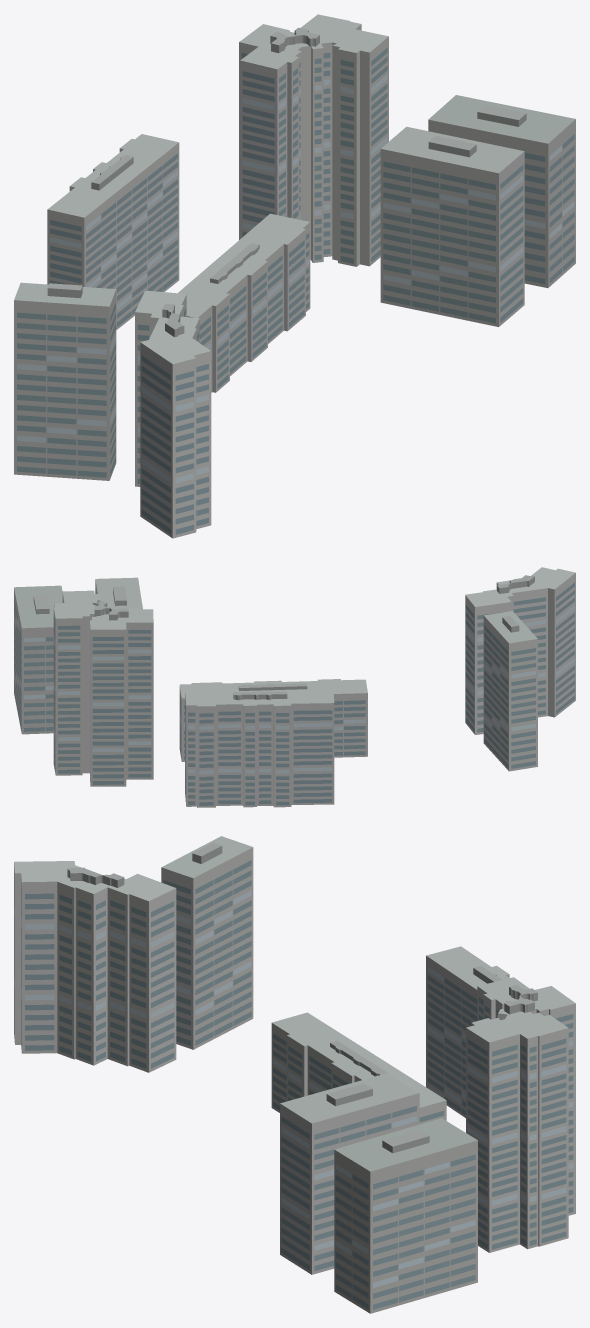
Rendered from apt-a13510102.glb.
3 views of the same model, one above another, from view 1: azimuth 30°, elevation 25°; view 2: azimuth 150°, elevation 25°; view 3: azimuth 270°, elevation 25° (orthographic). The views are drawn at different scales.
Visible parts, largest first — view 1: apt-a13510102; view 2: apt-a13510102; view 3: apt-a13510102.
Boxes of the visible parts, x1=… form: apt-a13510102: x1=14, y1=14, x2=575, y2=538; apt-a13510102: x1=14, y1=567, x2=575, y2=807; apt-a13510102: x1=14, y1=836, x2=575, y2=1313.
Size of the model in its own units: 198 by 66 by 154.
